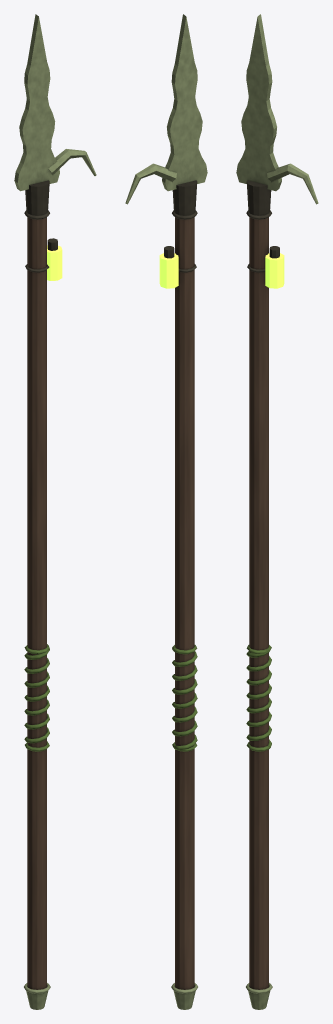
File: 05_swamp_spear.fbx
The picture shows the model from 3 angles, left to right: view 1: azimuth 30°, elevation 25°; view 2: azimuth 210°, elevation 25°; view 3: azimuth 330°, elevation 25°; orthographic projection.
Parts seen in each view (by area): view 1: Weapon; view 2: Weapon; view 3: Weapon.
Part boxes in pixels (box(x1,y1,x2,y2)): Weapon: box(14, 14, 96, 1009); Weapon: box(125, 14, 207, 1009); Weapon: box(236, 14, 318, 1009).
Size of the model in its own units: 18.96 by 224 by 5.59.
Materials: 2 (1 with a texture image).
